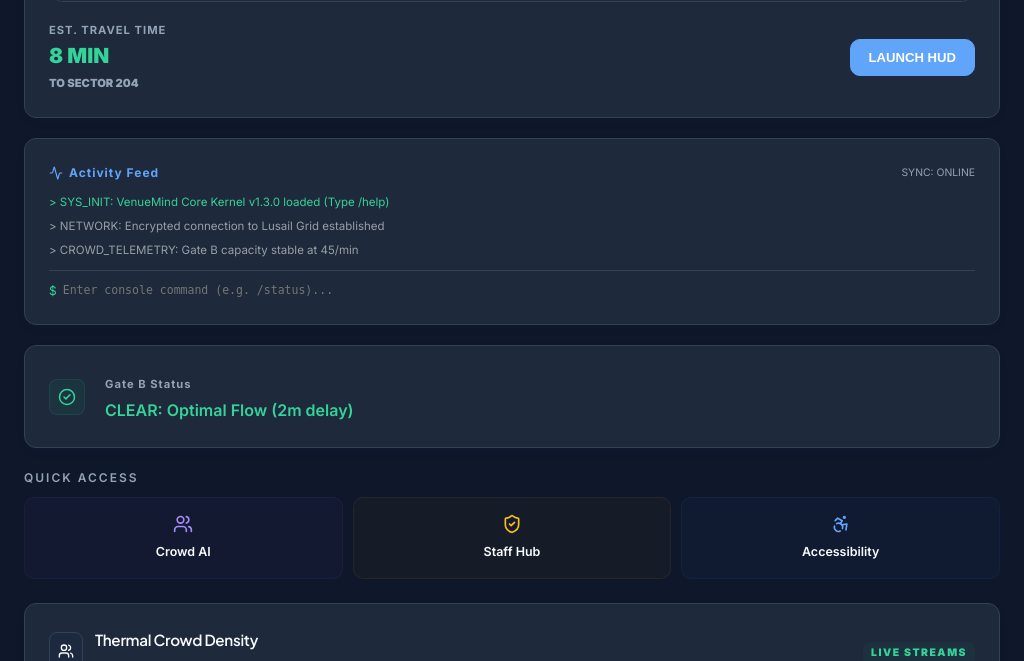
Test: Dashboard Component › interacts with the Command Terminal Console successfully
(page scrolled)
In the field with placeholder "Enter console command (e.g. /status)...": (519, 290) [63,281,975,300], type "/help"
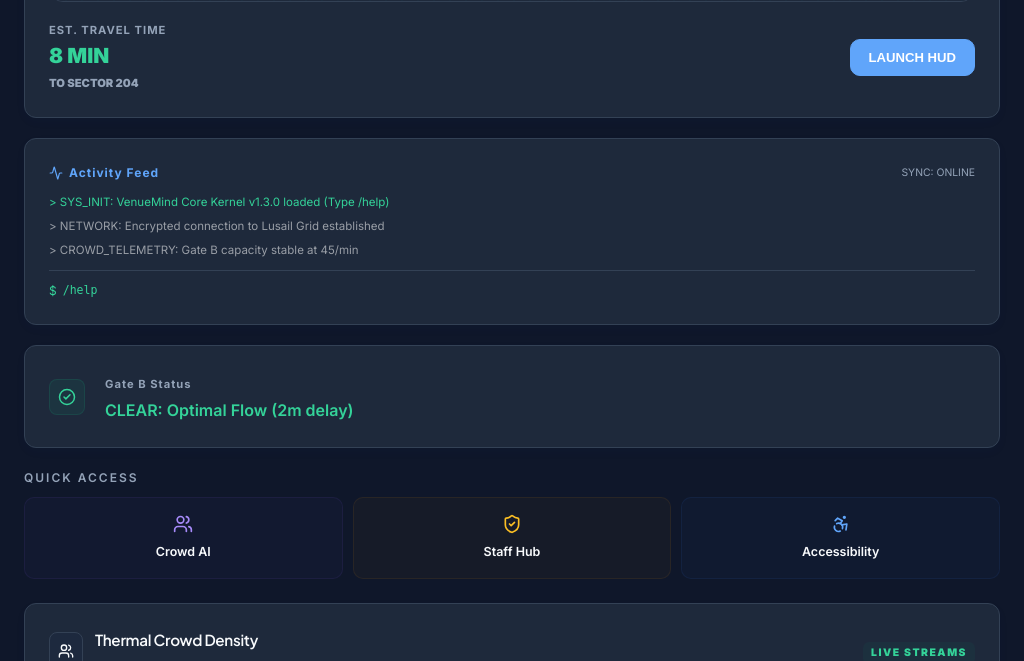
Submit the form from the field with placeholder "Enter console command (e.g. /status)...", box [63,281,975,300]
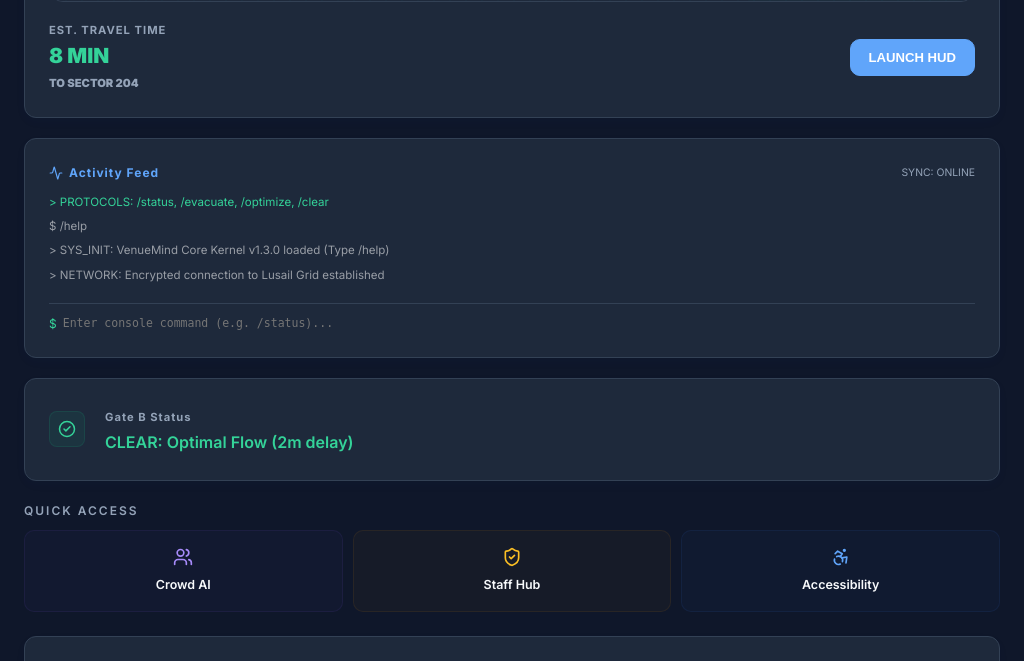
expect the text "> PROTOCOLS: /status, /evacuate, /optimize, /clear" is shown: met, box [49,195,329,209]
